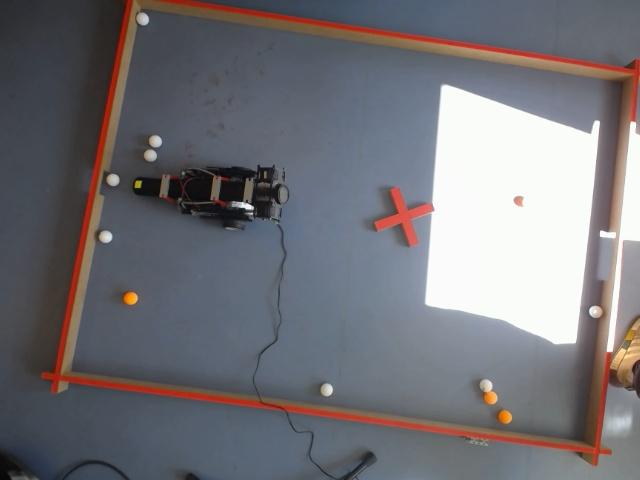orange: (497, 410, 513, 424), (123, 291, 138, 305), (484, 391, 498, 405)
robot: (133, 164, 291, 231)
robot-front: (132, 177, 157, 196)
white: (99, 230, 113, 244), (106, 173, 120, 187), (320, 383, 333, 397), (479, 379, 493, 392), (589, 305, 603, 318), (136, 12, 150, 25), (149, 135, 163, 148), (144, 149, 157, 162)
